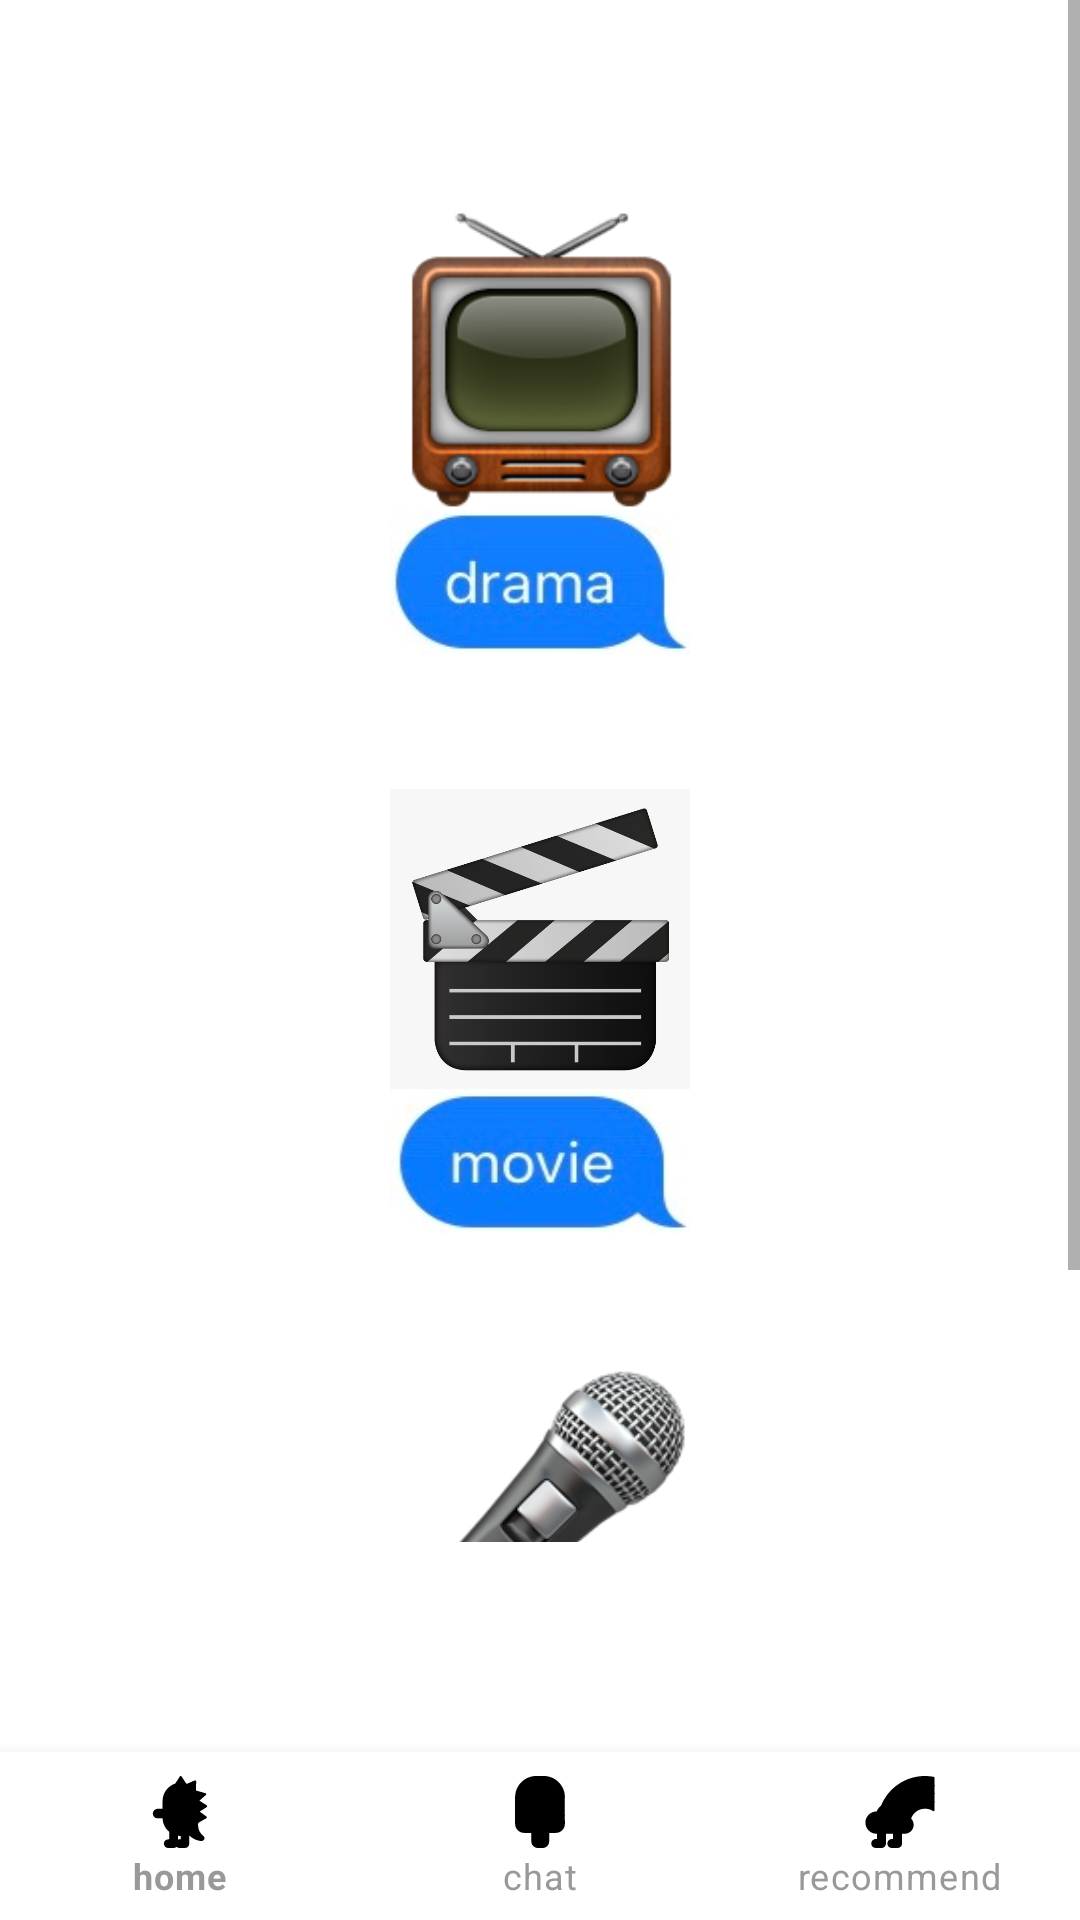

Point at icon controls on the screen. Image size 1080 × 1920, points as [x,y].
movieimg: [540,939]
tvimg: [541,360]
